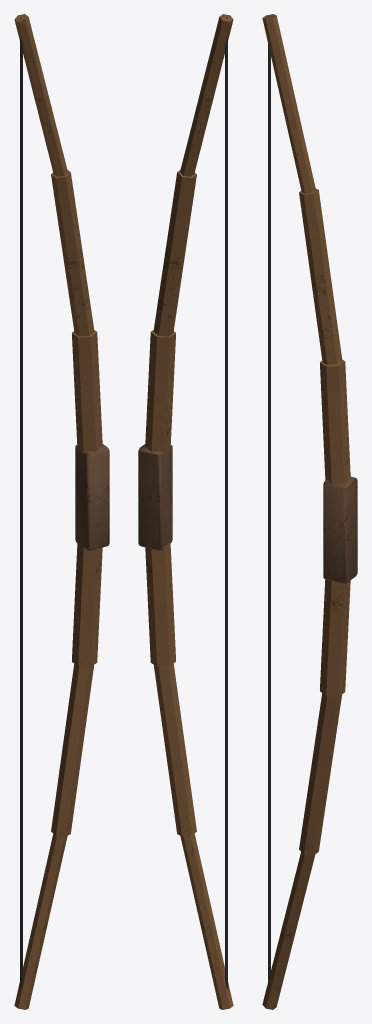
File: held_weapon_bow.glb
The picture shows the model from 3 angles, left to right: view 1: azimuth 30°, elevation 25°; view 2: azimuth 150°, elevation 25°; view 3: azimuth 330°, elevation 25°; orthographic projection.
Visible parts, largest first — view 1: cyl.001, box, cyl.004, cyl, cyl.003, cyl.006, cyl.002, cyl.005; view 2: cyl.001, box, cyl.004, cyl, cyl.003, cyl.006, cyl.002, cyl.005; view 3: cyl.004, box, cyl.001, cyl.003, cyl, cyl.006, cyl.005, cyl.002.
Boxes of the visible parts, x1,y1,x2,y2 form: cyl.001: (51,664,93,836); box: (75,444,109,550); cyl.004: (51,170,94,336); cyl: (72,542,102,666); cyl.003: (72,330,102,453); cyl.006: (20,17,22,989); cyl.002: (14,833,67,1009); cyl.005: (14,14,67,176); cyl.001: (154,664,196,836); box: (138,444,172,550); cyl.004: (153,170,196,336); cyl: (145,542,175,666); cyl.003: (145,330,175,453); cyl.006: (225,17,227,989); cyl.002: (180,833,233,1009); cyl.005: (180,14,233,176); cyl.004: (299,188,342,365); box: (323,476,357,583); cyl.001: (299,693,341,855); cyl.003: (320,359,350,483); cyl: (320,579,350,696); cyl.006: (268,16,270,981); cyl.005: (262,14,315,193); cyl.002: (262,852,314,1009).
Bounding box in the file's own units: 0.1117 × 1.2 × 0.03.
Materials: 3 (2 with a texture image).
